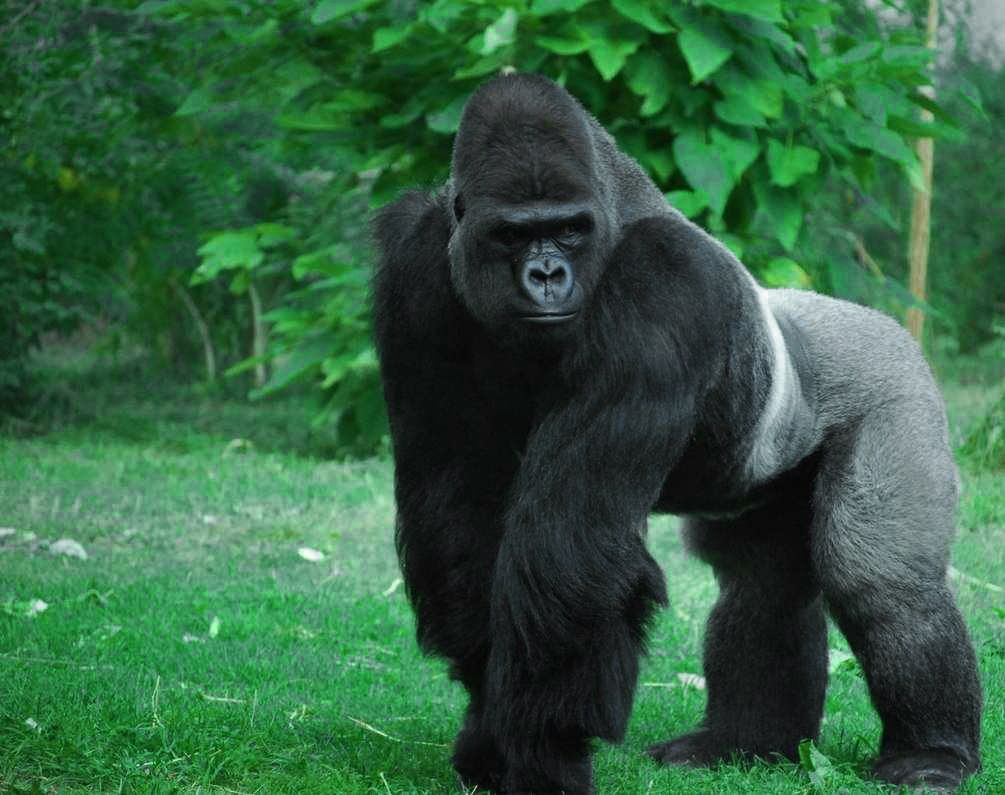Goriila: (331, 38, 1005, 753)
